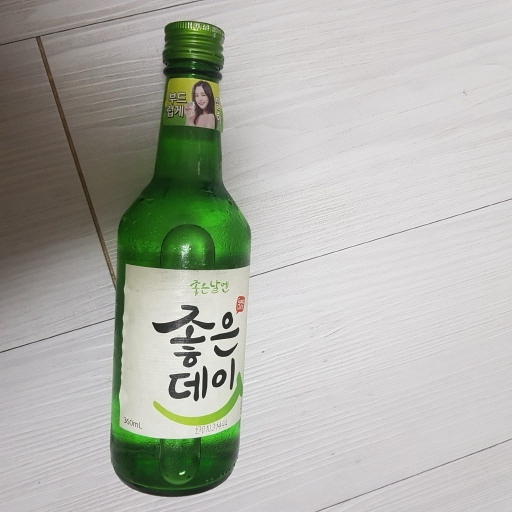Glass_0: (107, 16, 254, 501)
